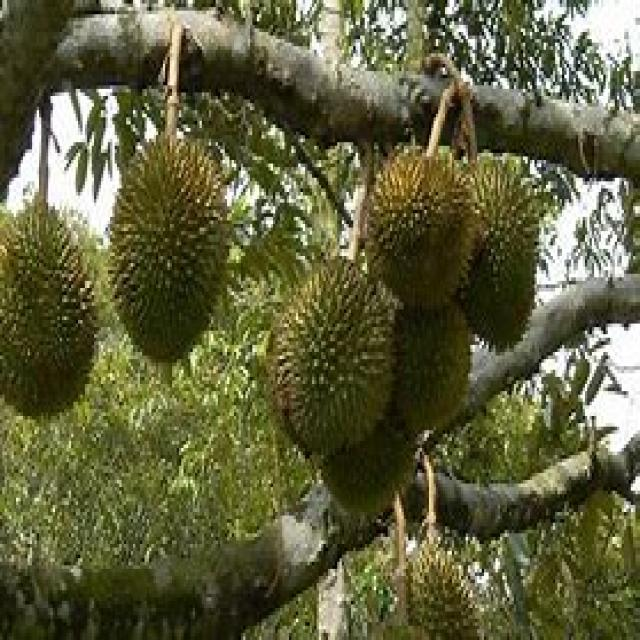mature: (110, 136, 229, 379), (268, 258, 396, 456), (0, 203, 98, 416), (366, 153, 476, 307)
